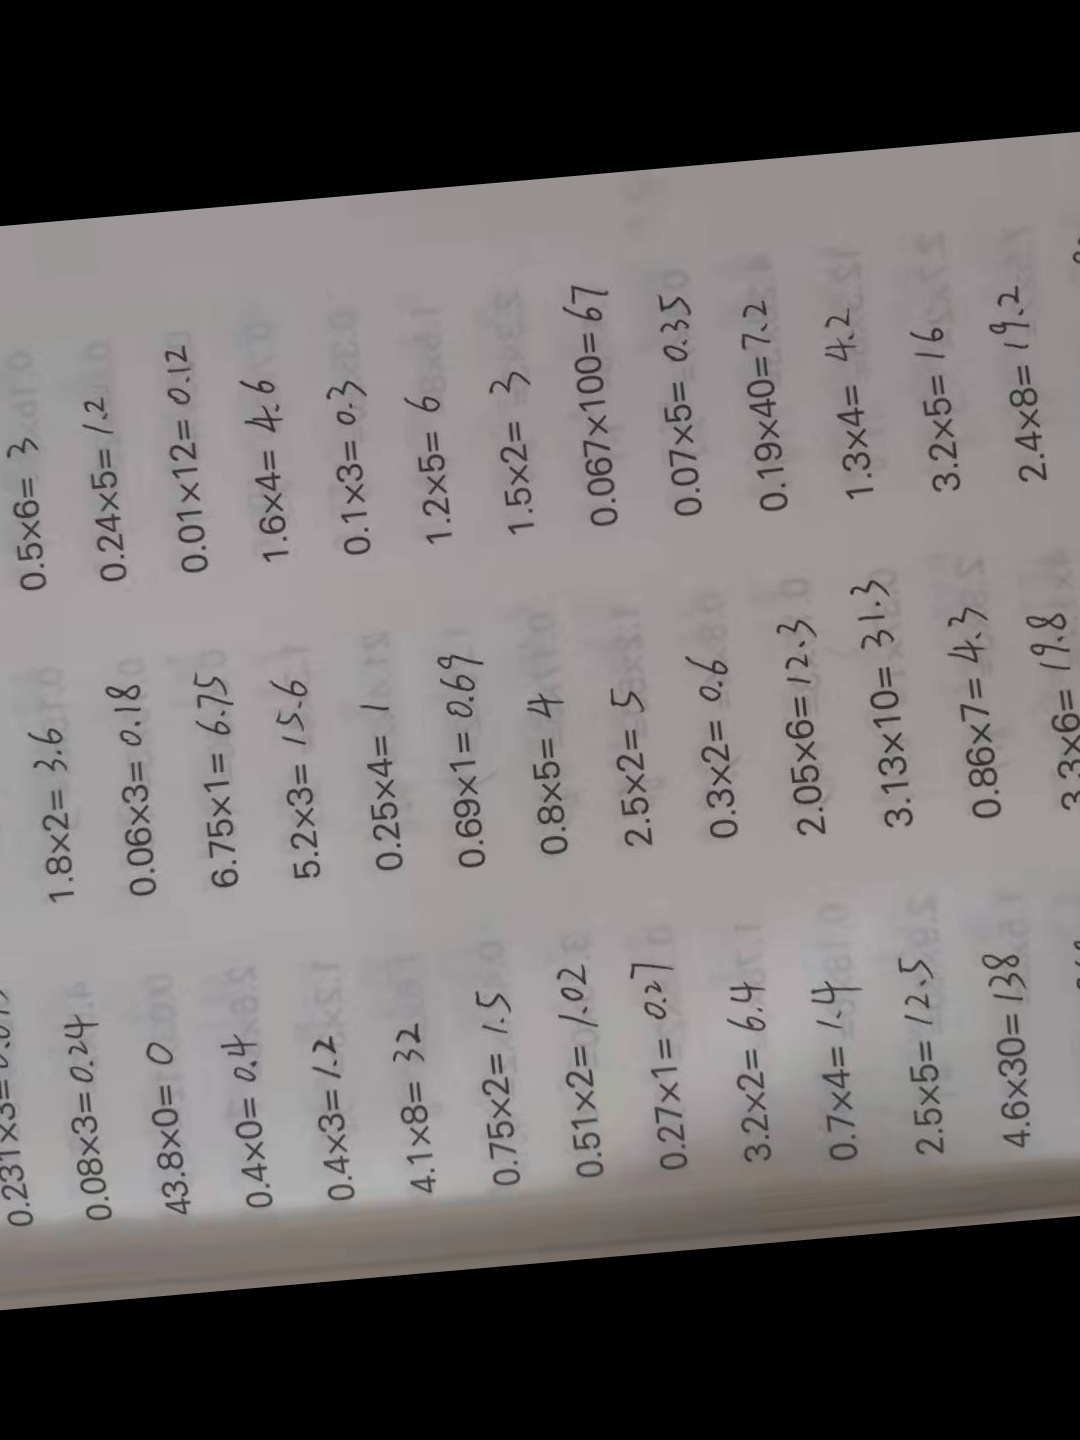equation: (850, 565, 920, 838), (433, 649, 504, 876), (564, 271, 623, 539), (939, 601, 1004, 827), (630, 954, 693, 1178), (104, 667, 162, 908), (184, 666, 245, 893), (773, 611, 832, 847), (158, 330, 212, 584), (732, 295, 792, 523), (56, 1000, 115, 1230), (990, 271, 1053, 488), (681, 645, 746, 849), (1020, 600, 1080, 822), (809, 974, 877, 1170), (552, 948, 608, 1187), (268, 667, 326, 893), (651, 285, 704, 526), (466, 980, 525, 1195), (982, 941, 1041, 1157), (893, 950, 952, 1160), (723, 964, 781, 1175), (213, 1024, 275, 1214), (904, 315, 964, 505), (32, 704, 86, 913), (299, 1019, 360, 1206), (486, 363, 548, 542), (522, 678, 581, 867), (320, 378, 379, 559), (137, 1026, 191, 1222), (356, 685, 407, 887), (243, 369, 295, 566), (77, 388, 128, 588), (822, 296, 871, 506), (386, 1011, 439, 1202), (605, 674, 658, 857), (403, 384, 457, 550), (0, 427, 53, 595), (0, 973, 31, 1234), (1063, 930, 1080, 1146), (1066, 227, 1080, 489)
